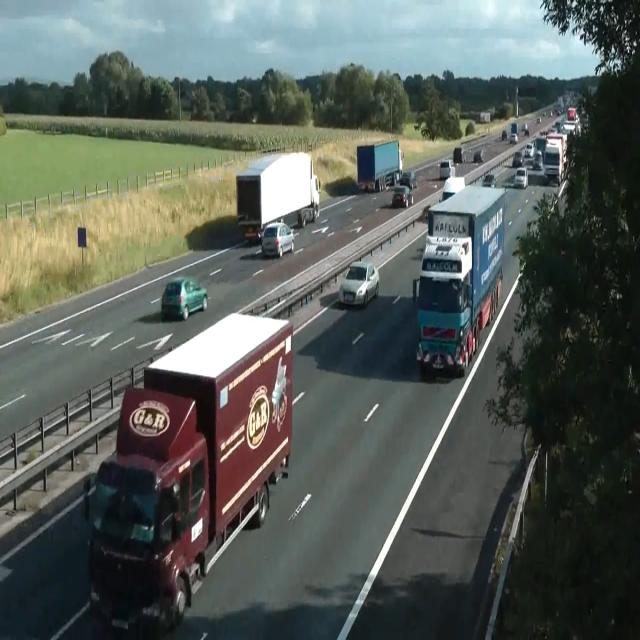bus: (160, 276, 208, 321), (338, 260, 379, 308), (261, 221, 295, 258), (391, 185, 413, 208), (244, 225, 263, 244), (399, 171, 417, 189), (514, 167, 528, 188), (439, 159, 453, 180), (481, 172, 497, 188), (532, 150, 544, 170), (512, 150, 523, 166), (524, 142, 534, 158), (473, 150, 483, 163), (522, 123, 530, 136), (508, 133, 518, 143), (537, 116, 541, 124)
minibus: (84, 310, 294, 634), (412, 184, 506, 377), (236, 150, 320, 244), (356, 139, 404, 192), (544, 132, 568, 185), (441, 176, 465, 203), (453, 146, 483, 164), (502, 122, 518, 143), (480, 111, 490, 123)
